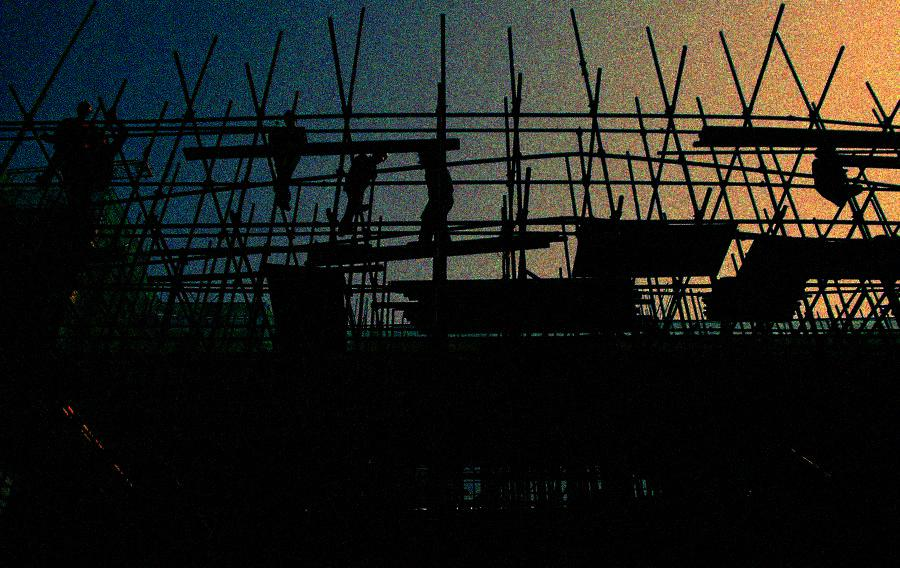helmet: (75, 100, 95, 120), (280, 108, 300, 127), (374, 149, 390, 164)
